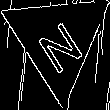N_NW: (30, 8, 86, 72)
